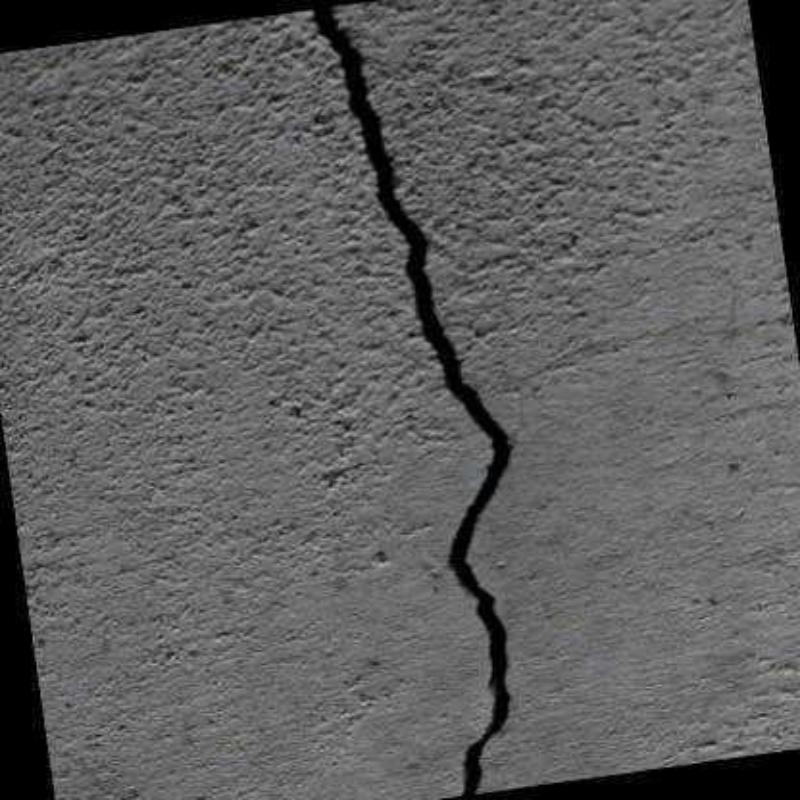crack: (303, 4, 522, 793)
